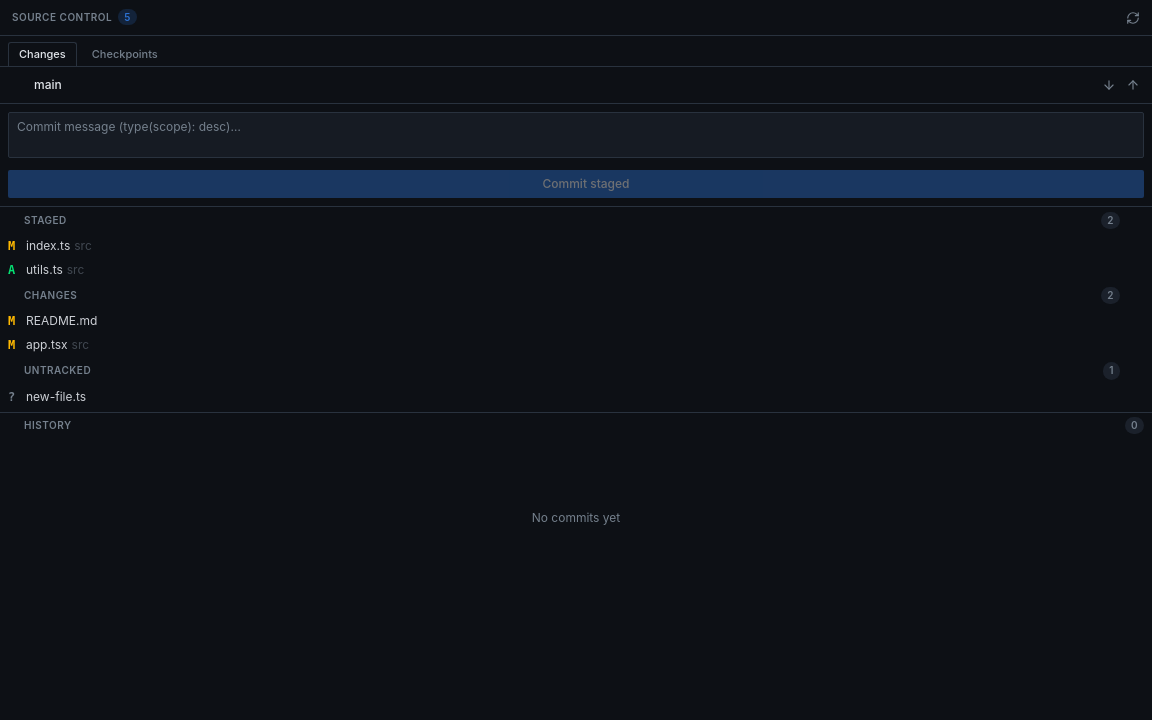
GitPane — Diff Preview › shows loading state while diff is being fetched
Expected: the text "index.ts" is shown, 26,238 -> 70,253
Click the text "index.ts" at (59, 246), box 26,238 -> 92,253
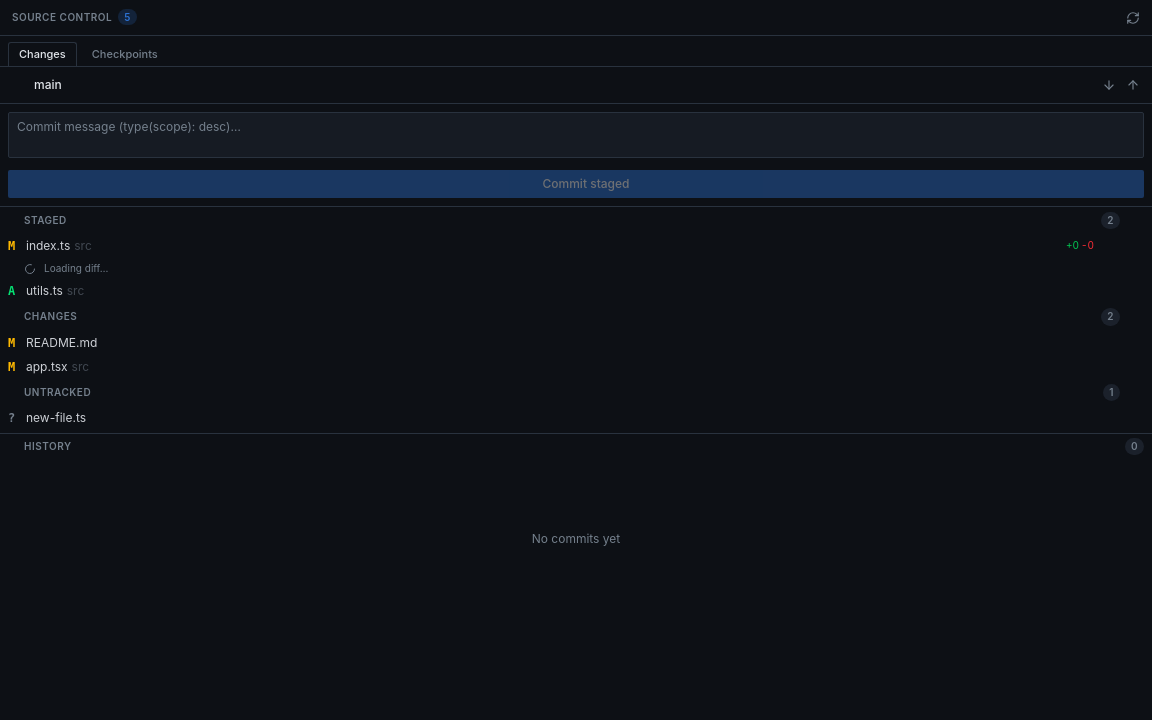
Result: the text "Loading diff…" is shown at 24,262 -> 108,275
